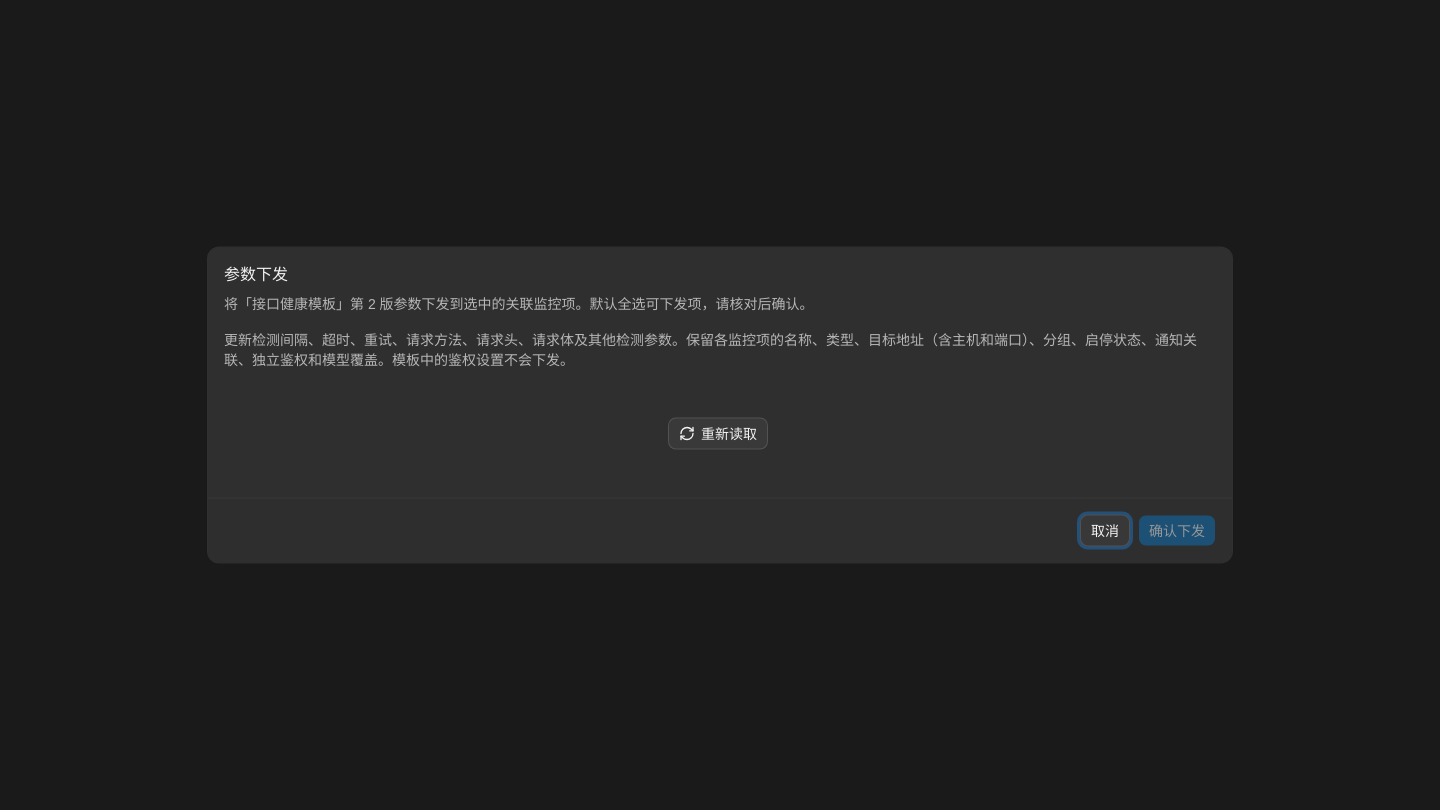
Scenario: 影响范围读取失败后可重试，成功前不允许下发
The image size is (1440, 810).
Click the button "重新读取" at (718, 434), box [668,418,768,450]
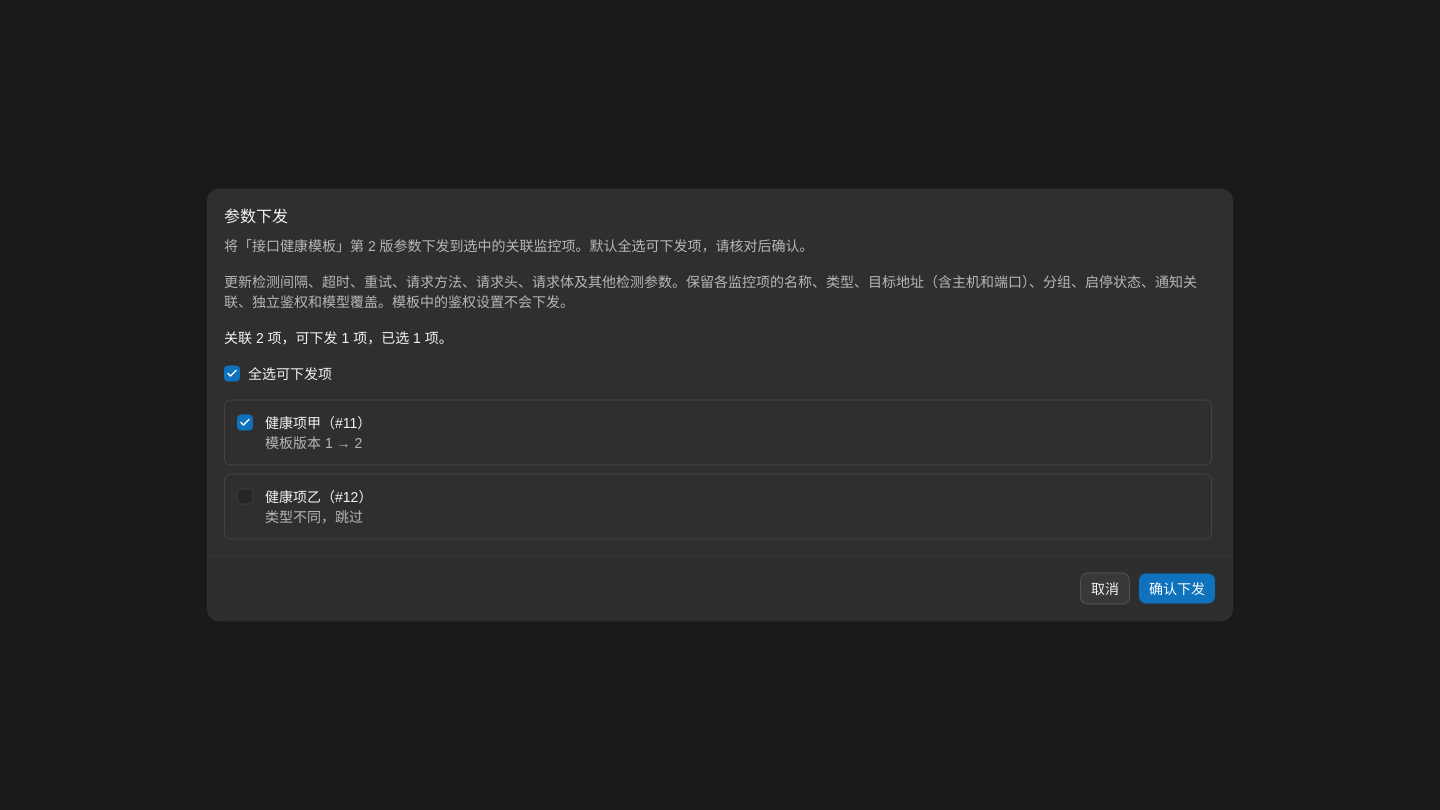
Check: the button "确认下发" is enabled, box [1138,572,1216,604]
